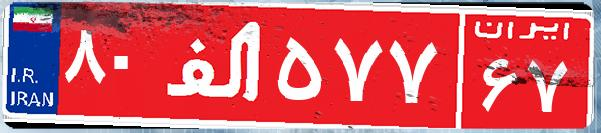0: (110, 28, 158, 105)
5: (273, 28, 330, 110)
6: (475, 38, 525, 113)
7: (385, 28, 445, 110), (330, 28, 385, 110), (525, 38, 570, 115)
8: (57, 26, 110, 107)
الف: (158, 15, 273, 115)
